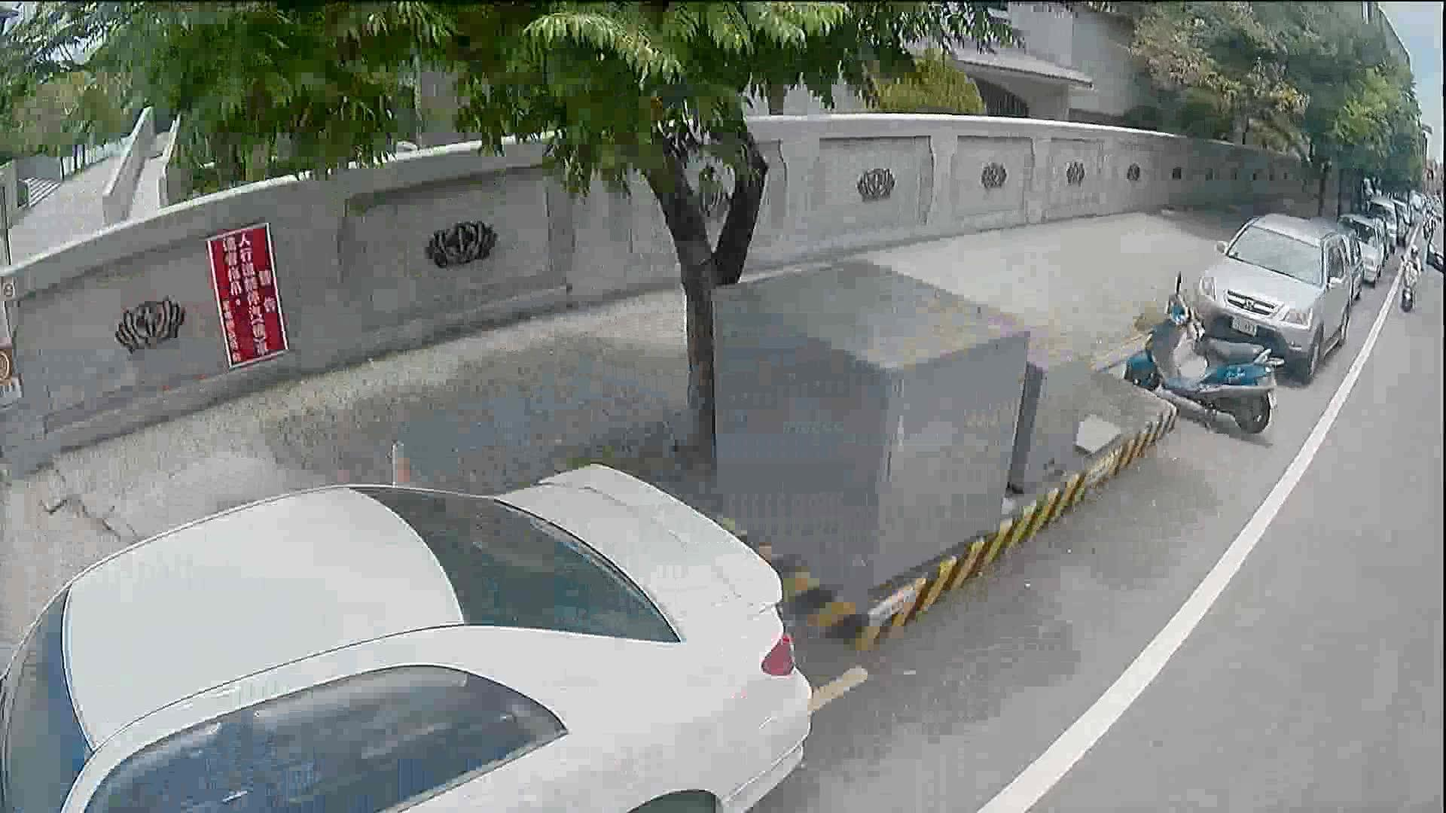person: (1402, 243, 1420, 271)
